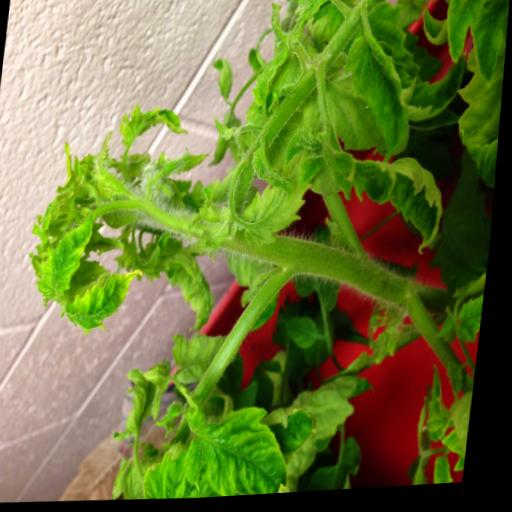Yellow Leaf Curl Virus: (177, 394, 305, 502), (334, 38, 420, 160), (64, 257, 150, 341), (31, 211, 108, 299), (233, 180, 313, 249)
